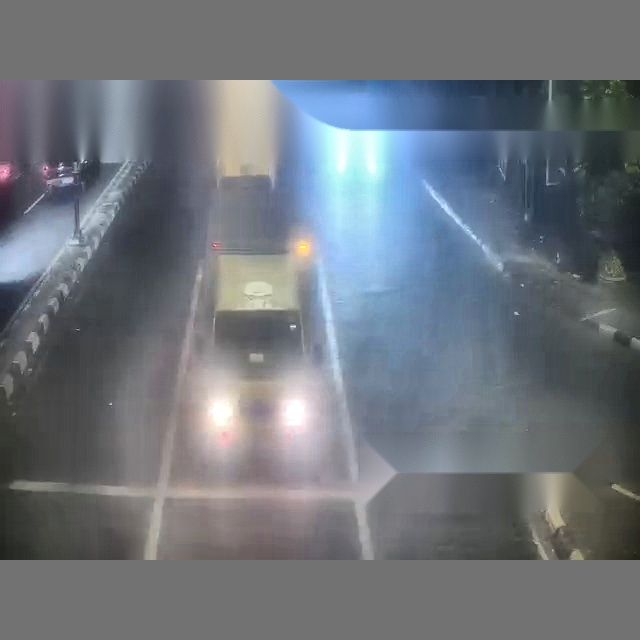Bis: (199, 49, 640, 558)
